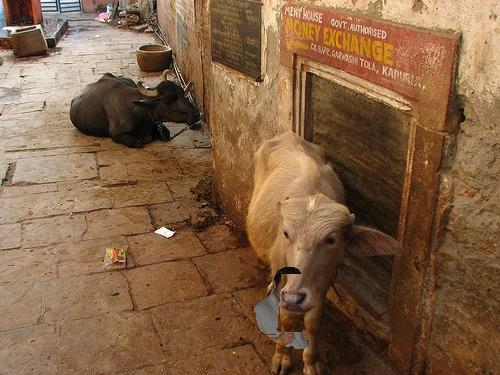tampered: (255, 268, 309, 349)
